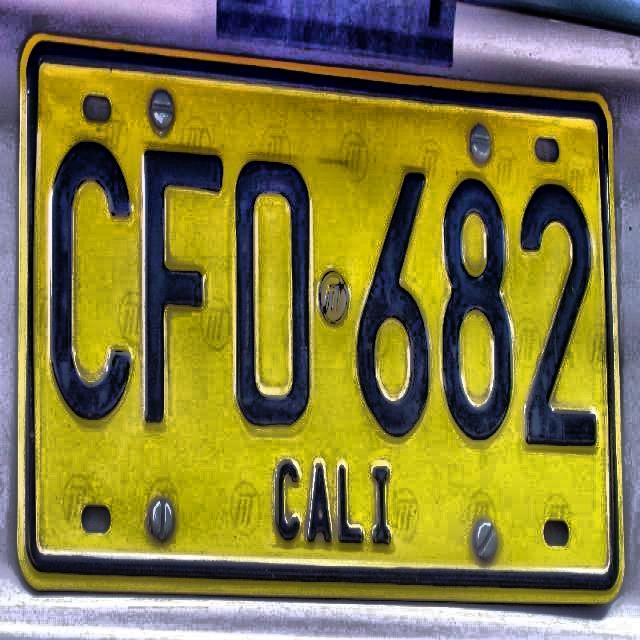plate: (23, 34, 623, 595)
